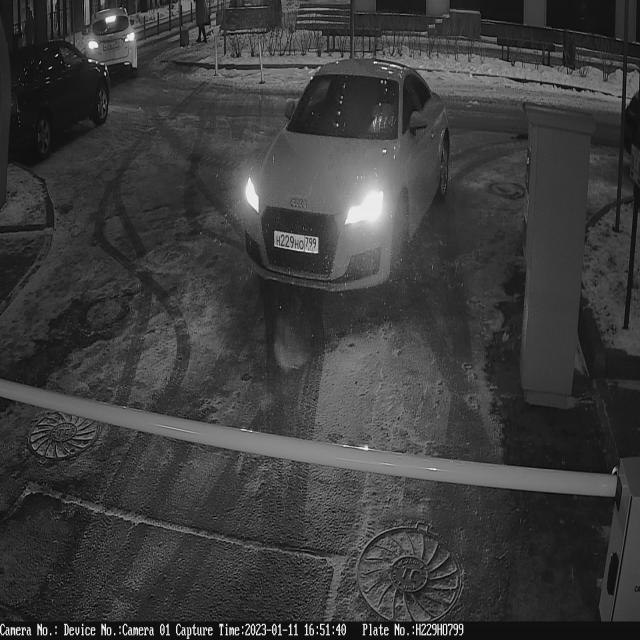car-plate-numbers: (271, 223, 323, 261)
